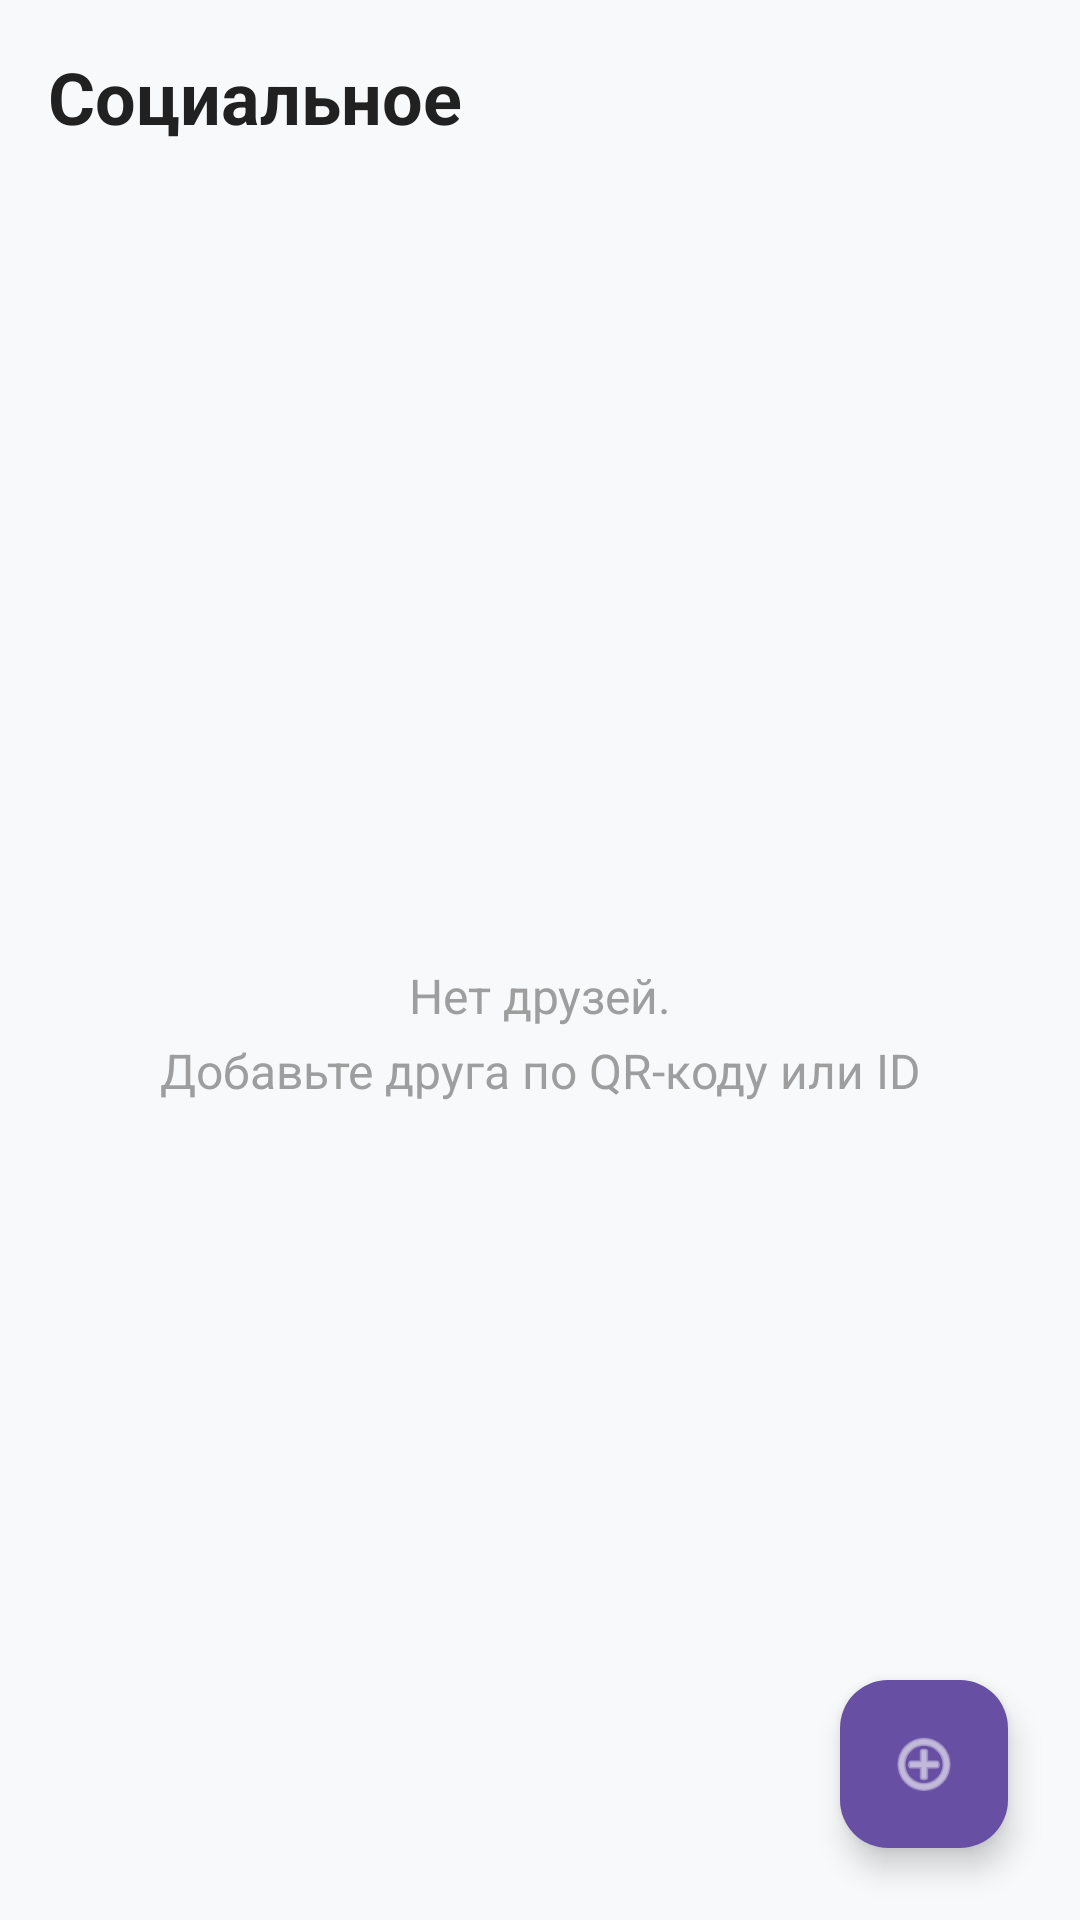

Where to tap for icons on this 1080px x 1920px app screen, as (x,y):
Добавить друга: (924,1764)
